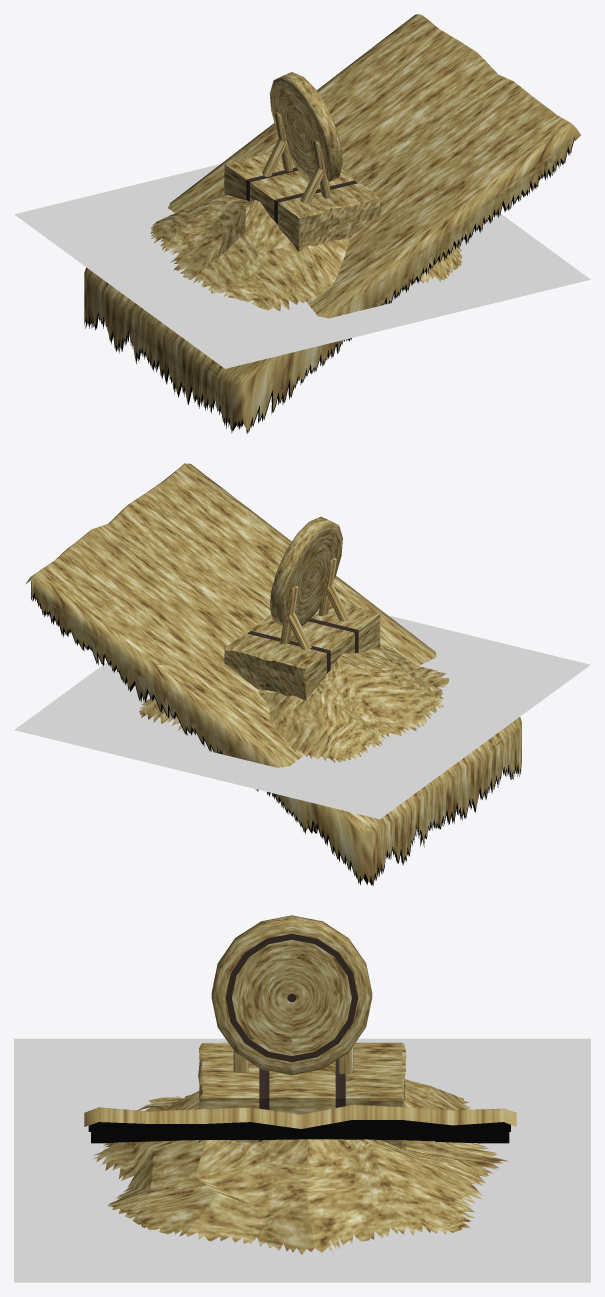
The model's file is thatch.glb.
The picture shows the model from 3 angles, top to bottom: view 1: azimuth 30°, elevation 25°; view 2: azimuth 150°, elevation 25°; view 3: azimuth 270°, elevation 25°; orthographic projection. The views are drawn at different scales.
Parts seen in each view (by area): view 1: ThatchRoof, Plane, ThatchRoofExt, HayPile, HayBale, ArcheryTarget; view 2: Plane, ThatchRoof, ThatchRoofExt, HayPile, HayBale, ArcheryTarget; view 3: Plane, HayPile, ArcheryTarget, HayBale, ThatchRoofExt, ThatchRoof.
Boxes of the visible parts, x1,y1,x2,y2 form: ThatchRoof: (170, 14, 579, 382); Plane: (14, 164, 590, 368); ThatchRoofExt: (84, 42, 580, 433); HayPile: (150, 194, 462, 311); HayBale: (223, 151, 380, 251); ArcheryTarget: (262, 72, 342, 203); Plane: (14, 615, 590, 819); ThatchRoof: (27, 463, 435, 834); ThatchRoofExt: (25, 465, 521, 885); HayPile: (139, 645, 448, 762); HayBale: (224, 602, 380, 700); ArcheryTarget: (269, 517, 349, 649); Plane: (14, 1038, 590, 1282); HayPile: (93, 1079, 509, 1254); ArcheryTarget: (211, 915, 372, 1075); HayBale: (198, 1042, 406, 1149); ThatchRoofExt: (84, 1104, 516, 1143); ThatchRoof: (84, 1106, 516, 1131).
Bounding box in the file's own units: 3 × 2.08 × 2.87.
Materials: 3 (1 with a texture image).
